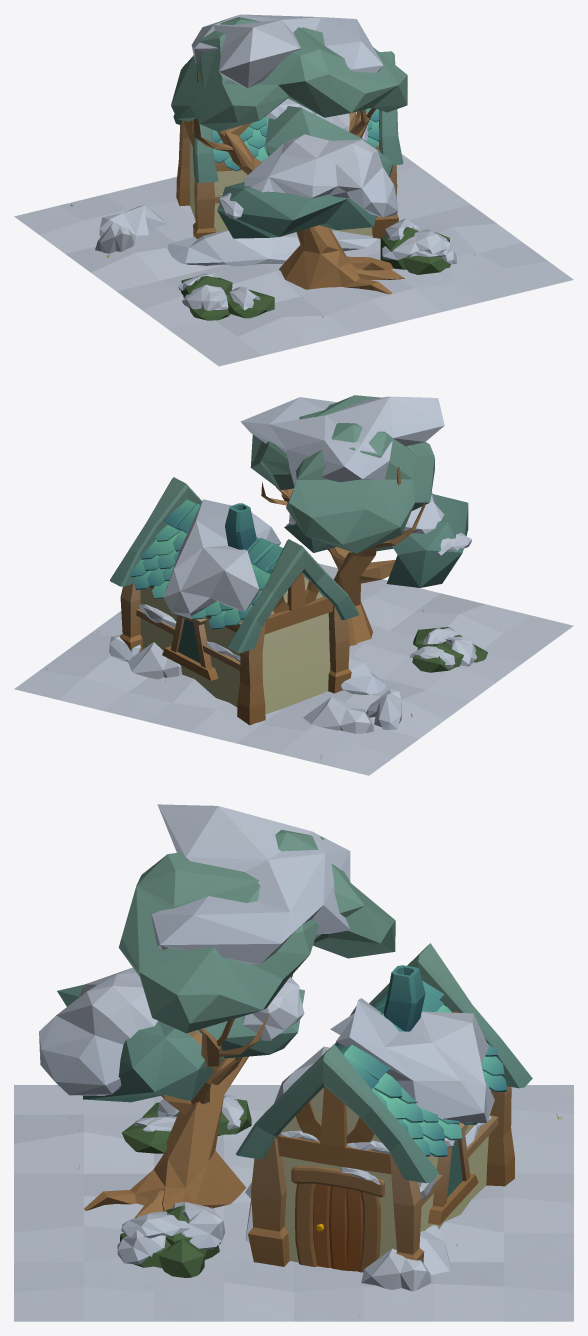
The model's file is House.glb.
The picture shows the model from 3 angles, top to bottom: view 1: azimuth 30°, elevation 25°; view 2: azimuth 150°, elevation 25°; view 3: azimuth 270°, elevation 25°; orthographic projection. The views are drawn at different scales.
Parts seen in each view (by area): view 1: Arbol1.002, Plane, Arbol1.016, Circle.089, Cube, Arbol1.017, Cube.001, Circle.019, Cube.002, Arbol1.003, Cube.010, Arbol1.007 (+6 smaller); view 2: Plane, Arbol1.002, Cube, Arbol1.009, Circle.019, Cube.002, Cube.025, Cube.001, Cube.004, Cube.010, Arbol1.017, Cube.006 (+8 smaller); view 3: Plane, Arbol1.002, Arbol1.009, Cube.001, Cube.008, Cube, Cube.020, Circle.019, Cube.024, Cube.002, Cube.025, Cube.009 (+15 smaller).
Boxes of the visible parts, x1=… form: Arbol1.002: x1=171, y1=14, x2=407, y2=294; Plane: x1=14, y1=154, x2=573, y2=366; Arbol1.016: x1=167, y1=230, x2=377, y2=266; Circle.089: x1=212, y1=108, x2=379, y2=171; Cube: x1=189, y1=140, x2=378, y2=236; Arbol1.017: x1=99, y1=205, x2=166, y2=239; Cube.001: x1=378, y1=51, x2=403, y2=165; Circle.019: x1=193, y1=177, x2=216, y2=238; Cube.002: x1=173, y1=64, x2=218, y2=183; Arbol1.003: x1=382, y1=229, x2=447, y2=260; Cube.010: x1=176, y1=120, x2=189, y2=206; Arbol1.007: x1=182, y1=284, x2=228, y2=310; Plane: x1=14, y1=563, x2=573, y2=775; Arbol1.002: x1=240, y1=395, x2=468, y2=645; Cube: x1=140, y1=577, x2=330, y2=714; Arbol1.009: x1=163, y1=499, x2=280, y2=619; Circle.019: x1=130, y1=524, x2=351, y2=693; Cube.002: x1=227, y1=539, x2=359, y2=652; Cube.025: x1=136, y1=608, x2=240, y2=680; Cube.001: x1=110, y1=477, x2=201, y2=586; Cube.004: x1=262, y1=573, x2=332, y2=634; Cube.010: x1=237, y1=622, x2=265, y2=725; Arbol1.017: x1=303, y1=697, x2=373, y2=733; Cube.006: x1=164, y1=499, x2=283, y2=573; Plane: x1=14, y1=1085, x2=573, y2=1321; Arbol1.002: x1=39, y1=804, x2=395, y2=1218; Arbol1.009: x1=330, y1=998, x2=494, y2=1122; Cube.001: x1=236, y1=1044, x2=439, y2=1183; Cube.008: x1=277, y1=1087, x2=391, y2=1174; Cube: x1=281, y1=1088, x2=490, y2=1262; Cube.020: x1=291, y1=1166, x2=384, y2=1272; Circle.019: x1=372, y1=1004, x2=507, y2=1156; Cube.024: x1=248, y1=1137, x2=289, y2=1266; Cube.002: x1=335, y1=943, x2=532, y2=1088; Cube.025: x1=421, y1=1115, x2=498, y2=1224; Cube.009: x1=390, y1=1152, x2=424, y2=1262.
Size of the model in its own units: 10 by 7.9 by 10.
3 materials, 1 textured.
